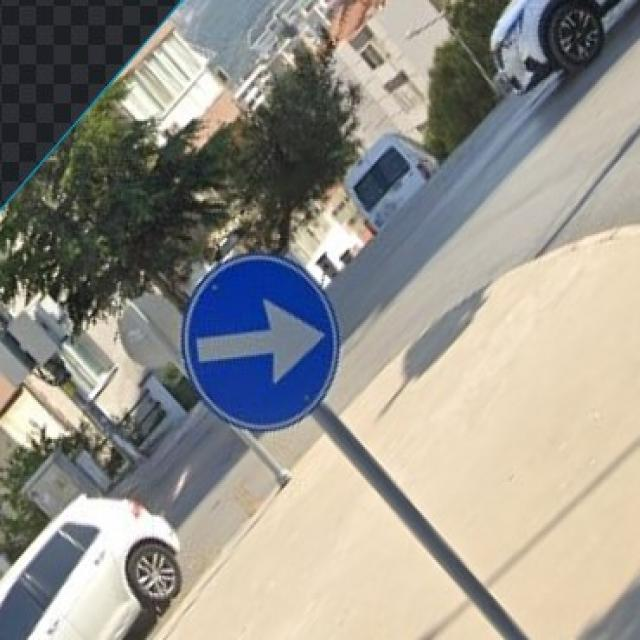Turn Right: (187, 253, 343, 430)
